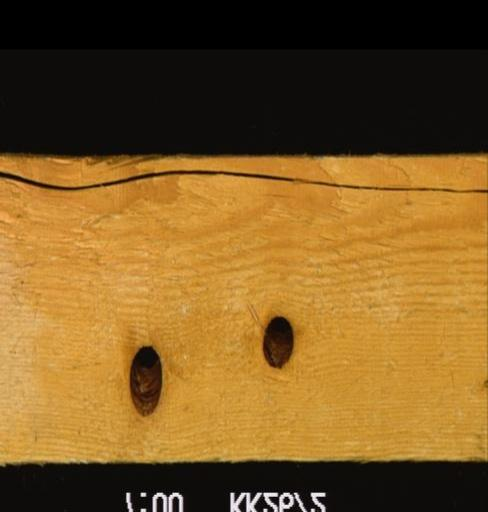split: (0, 166, 486, 195)
